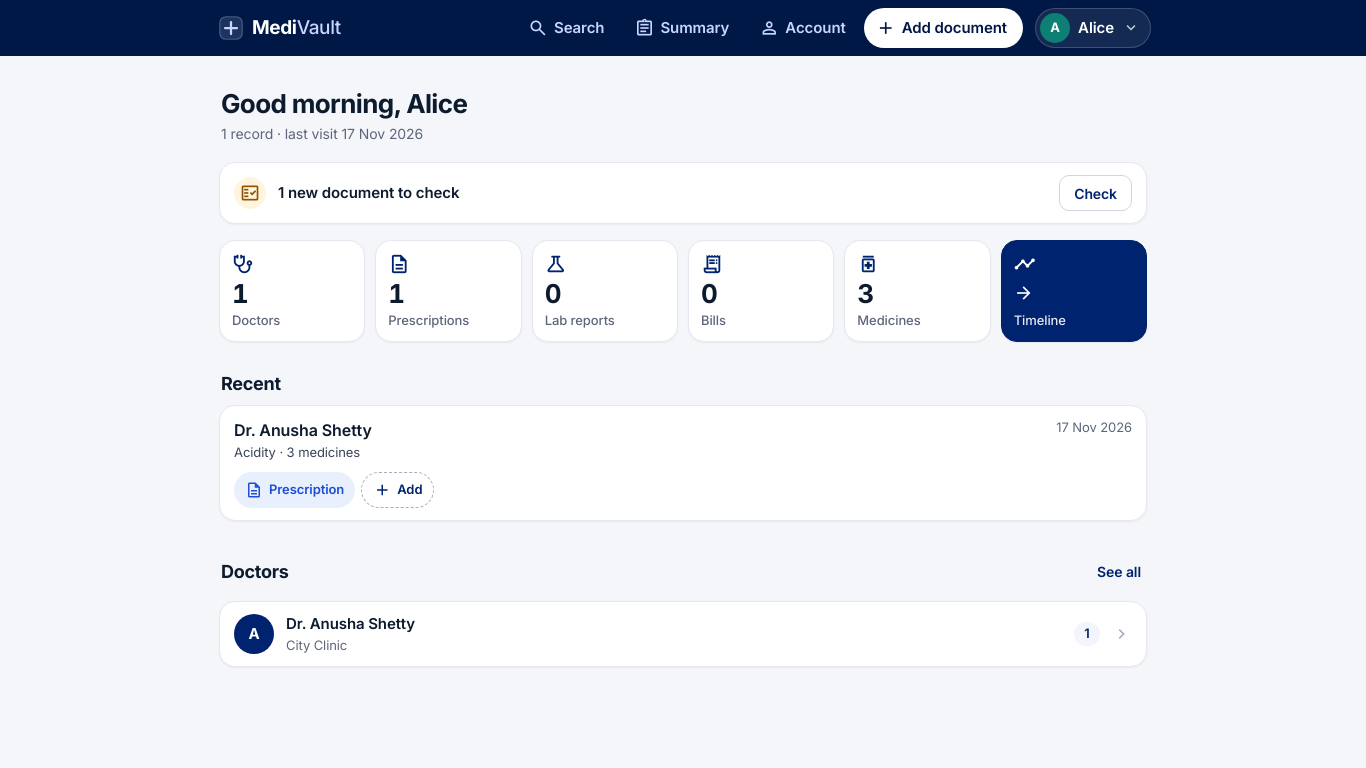
each medicine shows whether it is in the list, and a typo is one tap to fix
The width and height of the screenshot is (1366, 768).
Click the button "Check" at [1096, 193], box [1059, 175, 1132, 211]
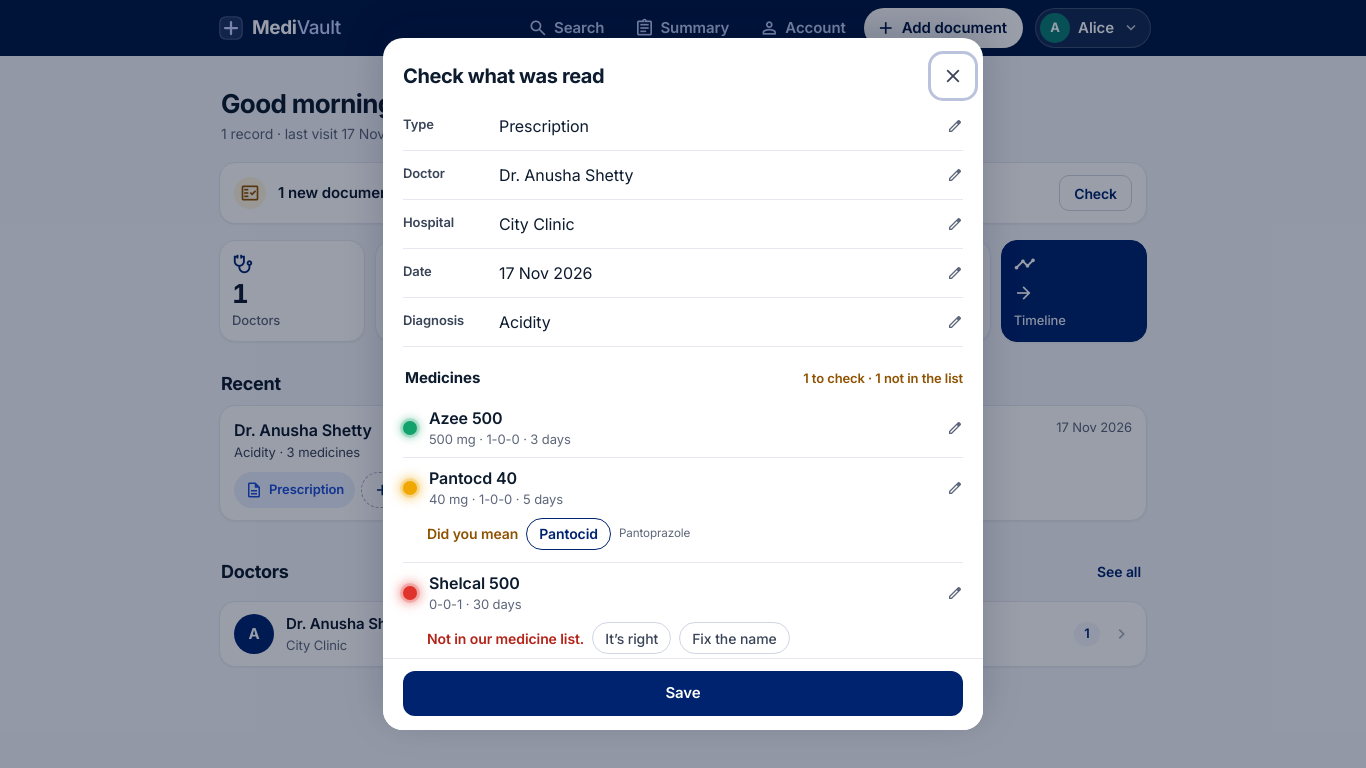
Now the number of pictures named "In the medicine list" is 1, box [403, 421, 417, 435]
Now the picture named "Close to a medicine in the list" is shown, box [403, 481, 417, 495]
Now the picture named "Not in the medicine list" is shown, box [403, 586, 417, 600]
Click the button "Pantocid" at [569, 534], box [526, 518, 611, 550]
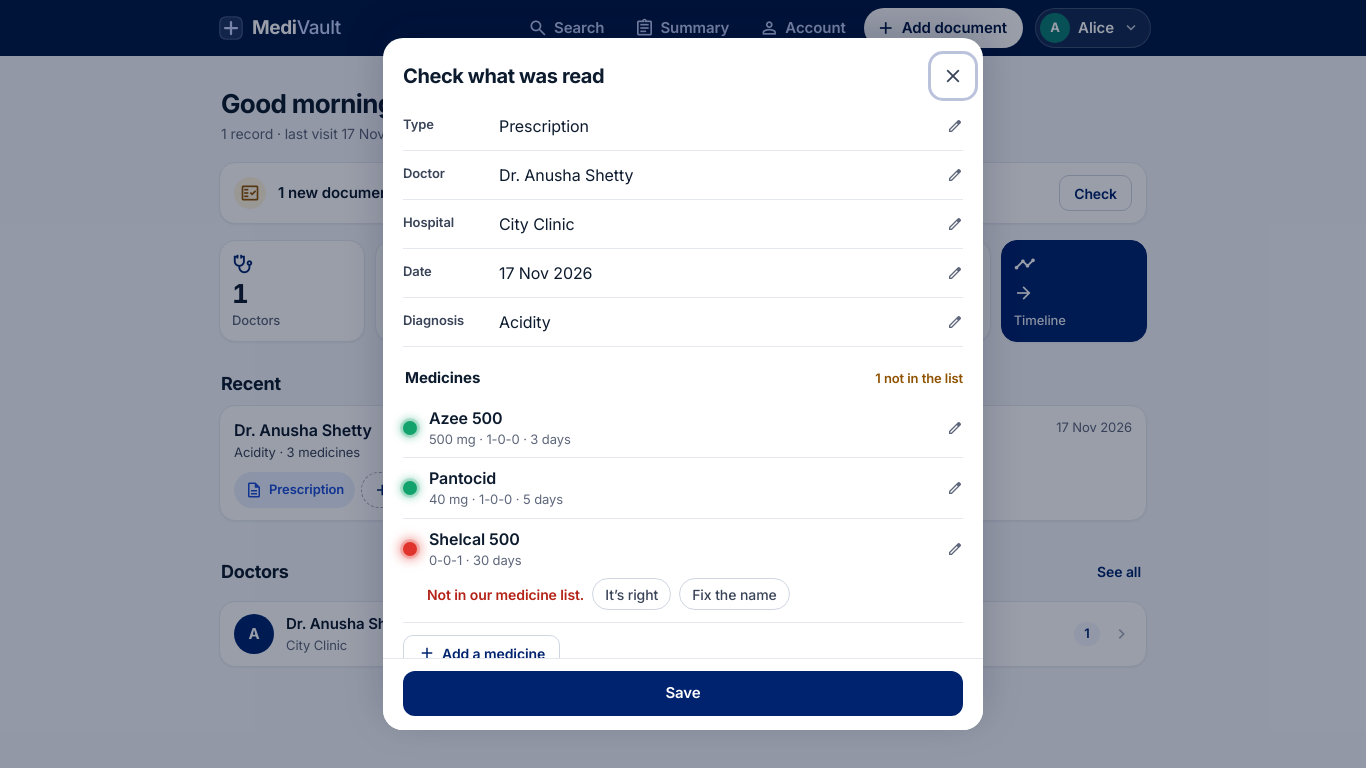
Now the number of pictures named "In the medicine list" is 2, box [403, 421, 417, 435]; [403, 481, 417, 495]
Now the button "Pantocd 40" is gone
